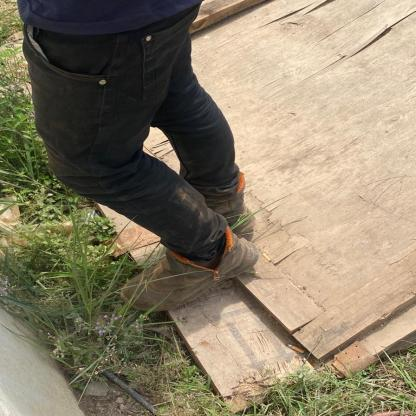bota: (117, 232, 256, 312), (181, 172, 246, 220)
